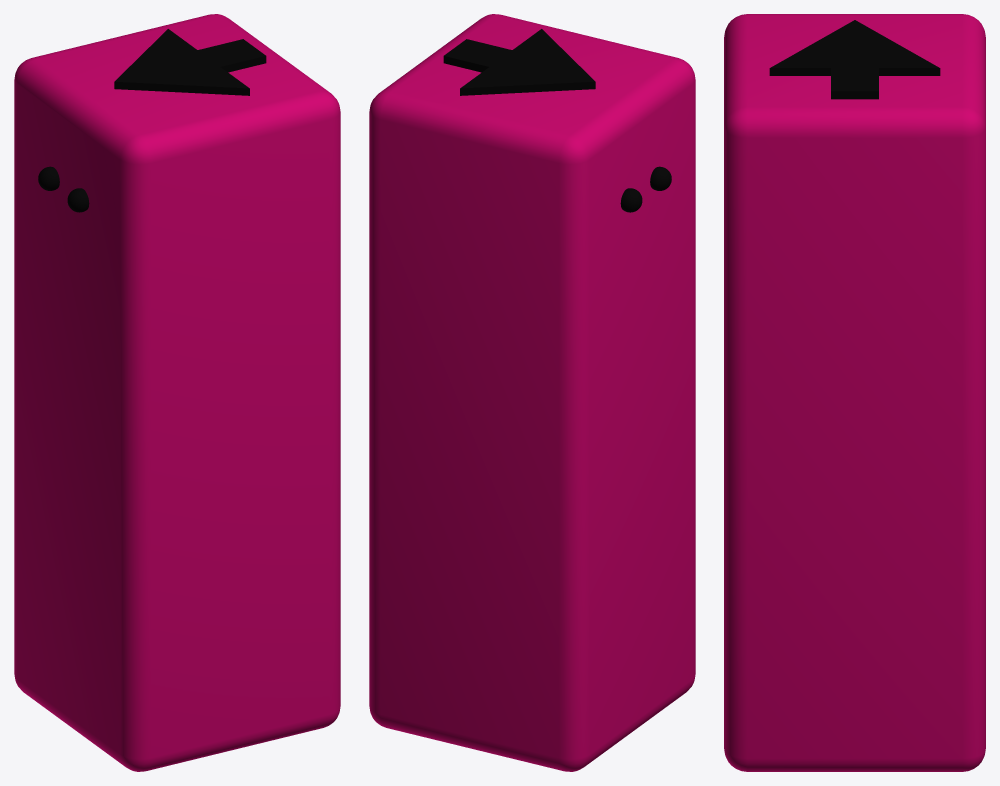
3 renders of one model, left to right at view 1: azimuth 30°, elevation 25°; view 2: azimuth 150°, elevation 25°; view 3: azimuth 270°, elevation 25°, orthographic. The views are drawn at different scales.
Parts seen in each view (by area): view 1: Cube.018_Cube.002_Material.004, Cube.018_Cube.002_SVGMat; view 2: Cube.018_Cube.002_Material.004, Cube.018_Cube.002_SVGMat; view 3: Cube.018_Cube.002_Material.004, Cube.018_Cube.002_SVGMat.
Part boxes in pixels (x1,y1,x2,y2): Cube.018_Cube.002_Material.004: (14,14,340,771); Cube.018_Cube.002_SVGMat: (38,29,266,212); Cube.018_Cube.002_Material.004: (369,14,695,771); Cube.018_Cube.002_SVGMat: (443,29,671,212); Cube.018_Cube.002_Material.004: (724,14,985,771); Cube.018_Cube.002_SVGMat: (769,20,940,99).
Size of the model in its own units: 0.1904 by 0.5061 by 0.1785.
